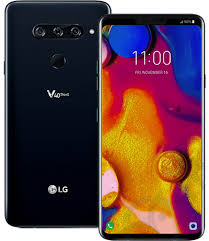lg: (95, 13, 206, 239), (3, 1, 112, 228)
